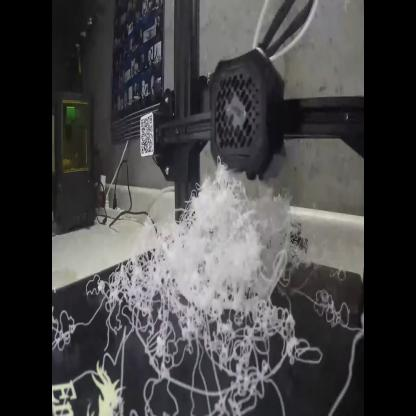fail: (56, 179, 358, 416)
